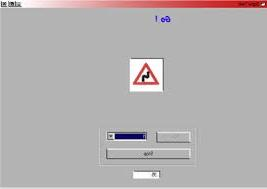double_bend_right: (131, 61, 158, 84)
